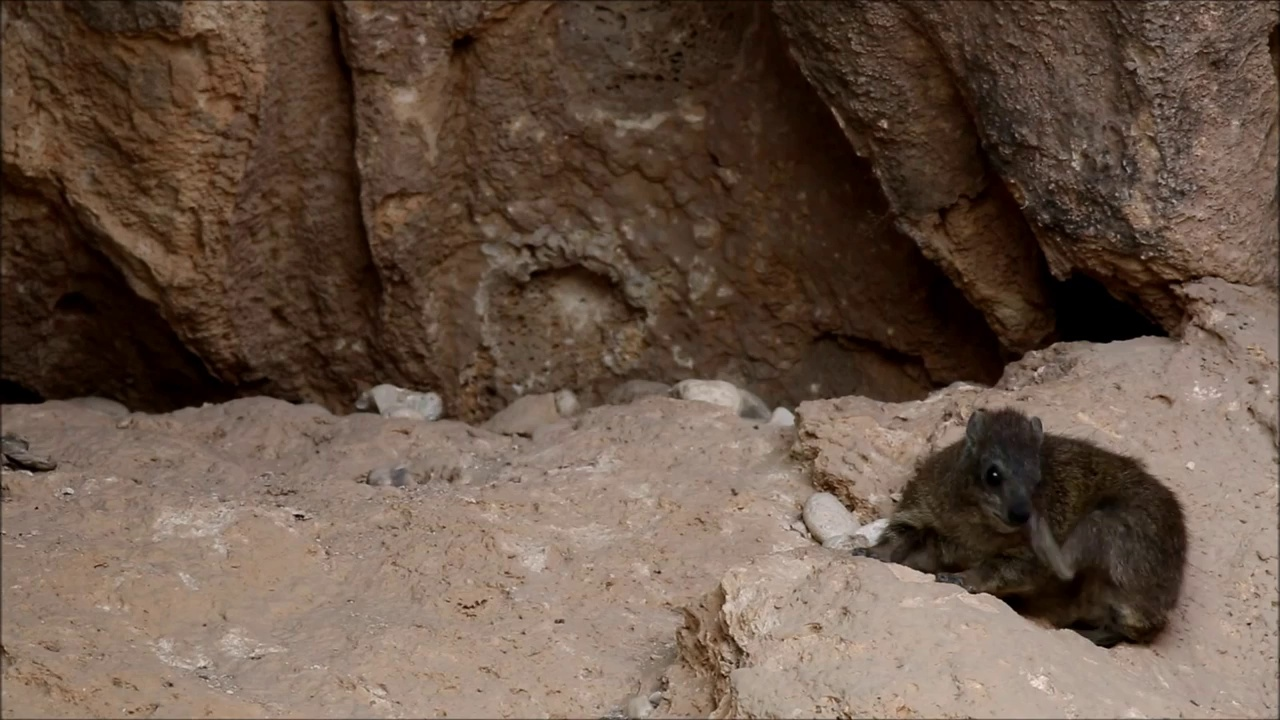Rock Hyrex: (844, 406, 1192, 655)
